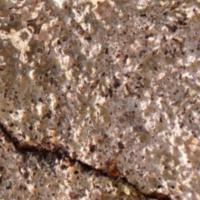crack: (0, 107, 172, 199)
